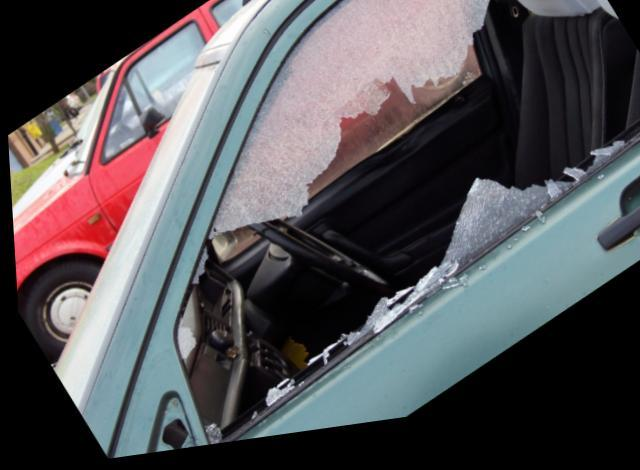glass shatter: (169, 0, 640, 450)
no part: (135, 396, 190, 457)
